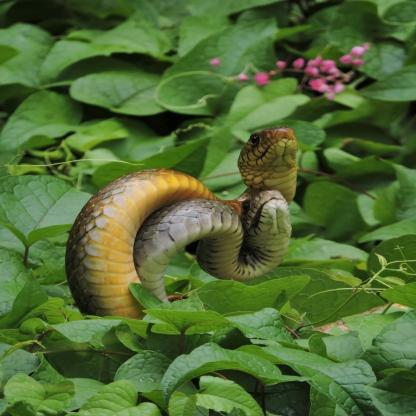Snake: (64, 120, 299, 294)
